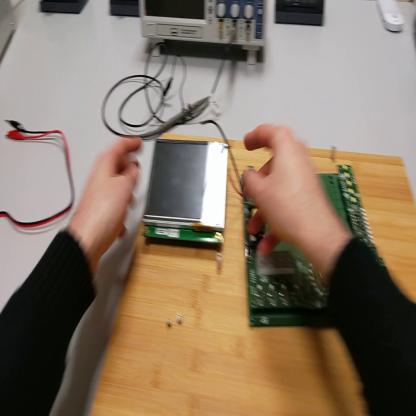hand: (242, 124, 329, 258), (77, 135, 144, 254)
low voltage board: (203, 119, 381, 328)
oscilloscope: (141, 2, 269, 65)
oscilloscope probe tip: (142, 98, 214, 140)
socket: (40, 2, 89, 16), (110, 3, 141, 20)
working area: (91, 135, 416, 415)
